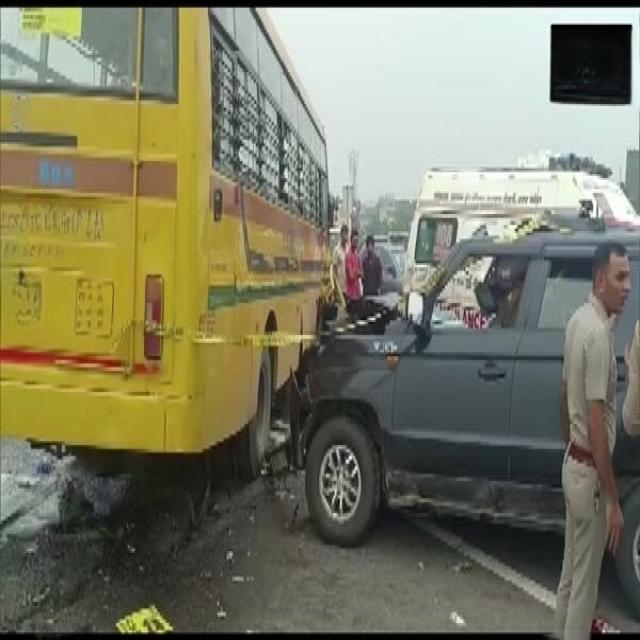accident: (294, 231, 640, 545)
bus: (0, 9, 329, 469)
